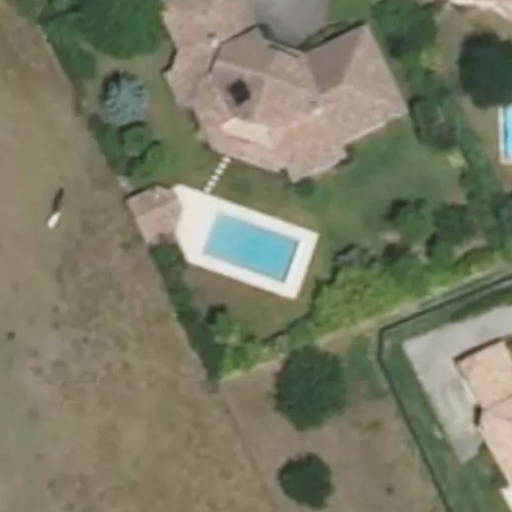pool: (200, 212, 301, 283)
